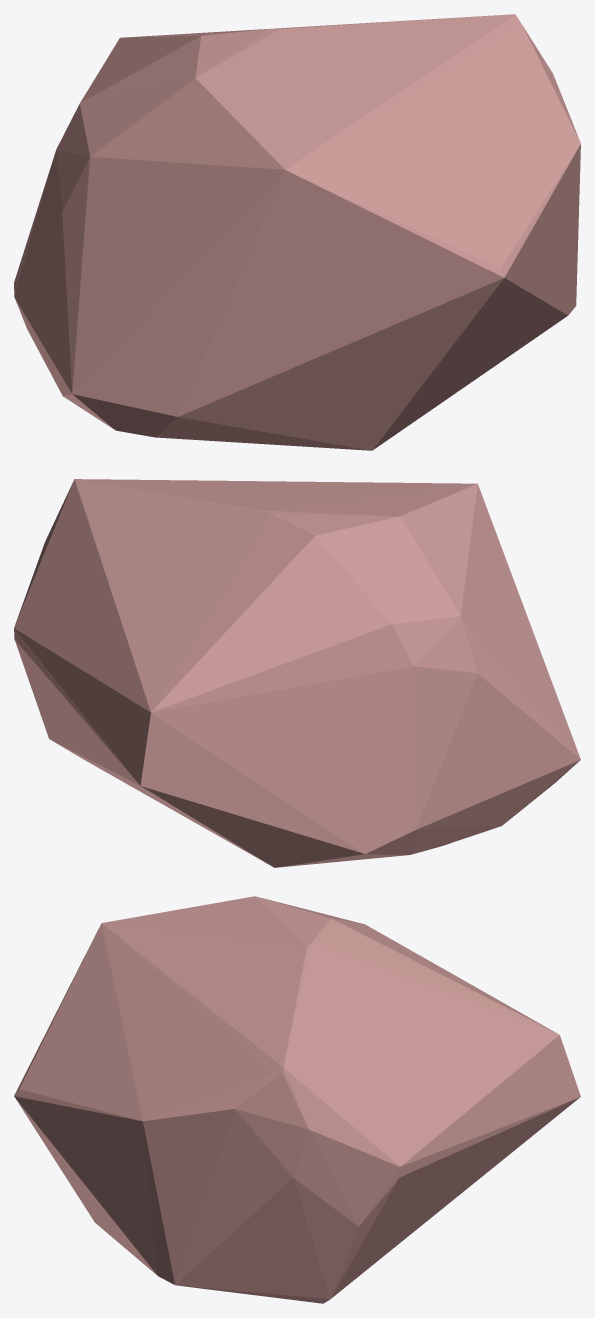
Rendered from drivetrain_front_axle_differential_a01.glb.
3 views of the same model, one above another, from view 1: azimuth 30°, elevation 25°; view 2: azimuth 150°, elevation 25°; view 3: azimuth 270°, elevation 25° (orthographic). The views are drawn at different scales.
Parts seen in each view (by area): view 1: geometry_0; view 2: geometry_0; view 3: geometry_0.
Part boxes in pixels (x1,y1,x2,y2): geometry_0: [14, 14, 580, 450]; geometry_0: [14, 479, 580, 867]; geometry_0: [14, 896, 580, 1303].
Bounding box in the file's own units: 0.4377 × 0.2654 × 0.4714.
